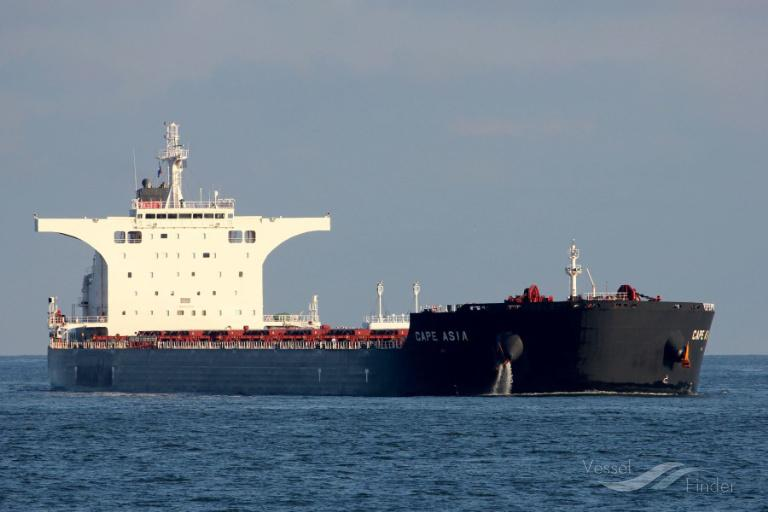OCR: (410, 322, 476, 348)
